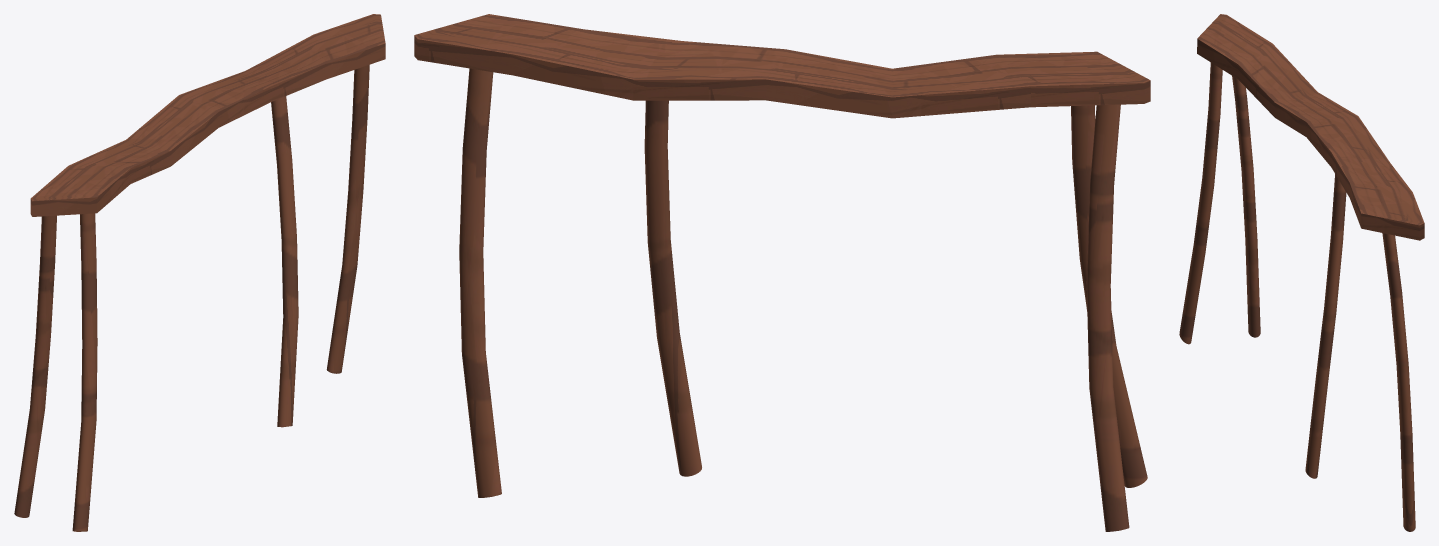
Rendered from aanggnag_platform_03.fbx.
3 renders of one model, left to right at view 1: azimuth 30°, elevation 25°; view 2: azimuth 150°, elevation 25°; view 3: azimuth 270°, elevation 25°, orthographic. The views are drawn at different scales.
Parts seen in each view (by area): view 1: aanggnag_platform_03; view 2: aanggnag_platform_03; view 3: aanggnag_platform_03.
Part boxes in pixels (x1=…): aanggnag_platform_03: x1=14, y1=14, x2=385, y2=531; aanggnag_platform_03: x1=414, y1=14, x2=1150, y2=531; aanggnag_platform_03: x1=1179, y1=14, x2=1424, y2=531.
Bounding box in the file's own units: 687 × 496 × 336.
Materials: 1 (1 with a texture image).
